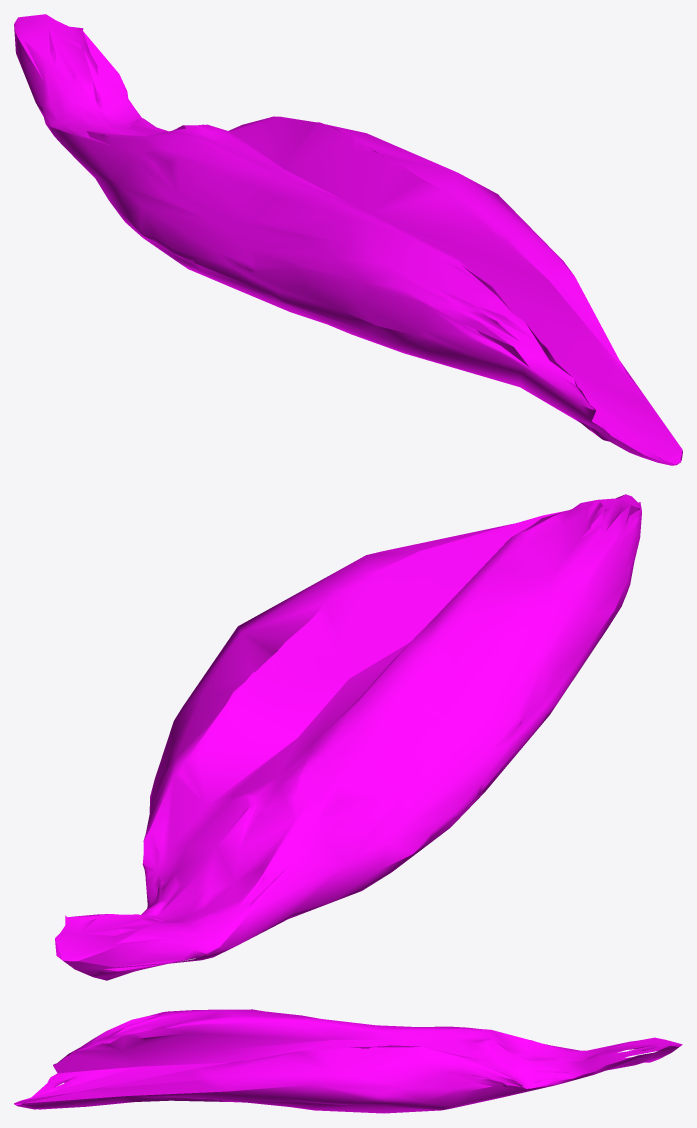
File: BRACHIALIS.obj
3 renders of one model, top to bottom at view 1: azimuth 30°, elevation 25°; view 2: azimuth 150°, elevation 25°; view 3: azimuth 270°, elevation 25°, orthographic. The views are drawn at different scales.
Visible parts, largest first — view 1: arm:Brachialis arm:FJ1486_grp1 arm:MAIN arm:MUSCLE arm:polySurfa; view 2: arm:Brachialis arm:FJ1486_grp1 arm:MAIN arm:MUSCLE arm:polySurfa; view 3: arm:Brachialis arm:FJ1486_grp1 arm:MAIN arm:MUSCLE arm:polySurfa.
Boxes of the visible parts, x1,y1,x2,y2 form: arm:Brachialis arm:FJ1486_grp1 arm:MAIN arm:MUSCLE arm:polySurfa: (14, 14, 682, 465); arm:Brachialis arm:FJ1486_grp1 arm:MAIN arm:MUSCLE arm:polySurfa: (55, 494, 641, 980); arm:Brachialis arm:FJ1486_grp1 arm:MAIN arm:MUSCLE arm:polySurfa: (14, 1009, 682, 1113).
Bounding box in the file's own units: 58.74 × 25.83 × 225.
